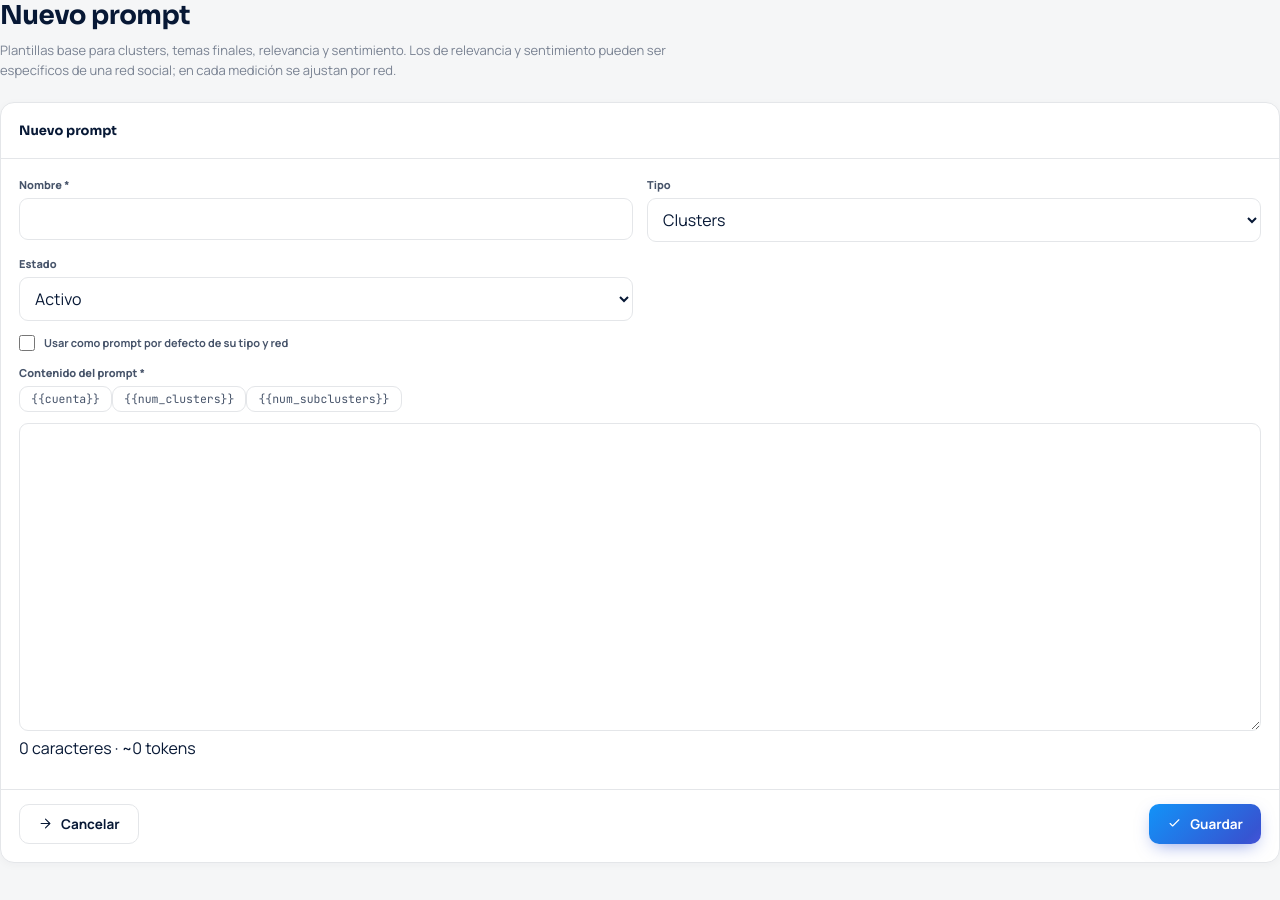
Test: Prompts con el patrón de Clientes › el formulario presenta tipo, red, estado, variables y contenido del mockup
Check: the dropdown labelled "Red social" is not shown
Step 1. Select "Relevancia" in the dropdown labelled "Tipo" → coordinates (954, 220), box [647,198,1261,242]
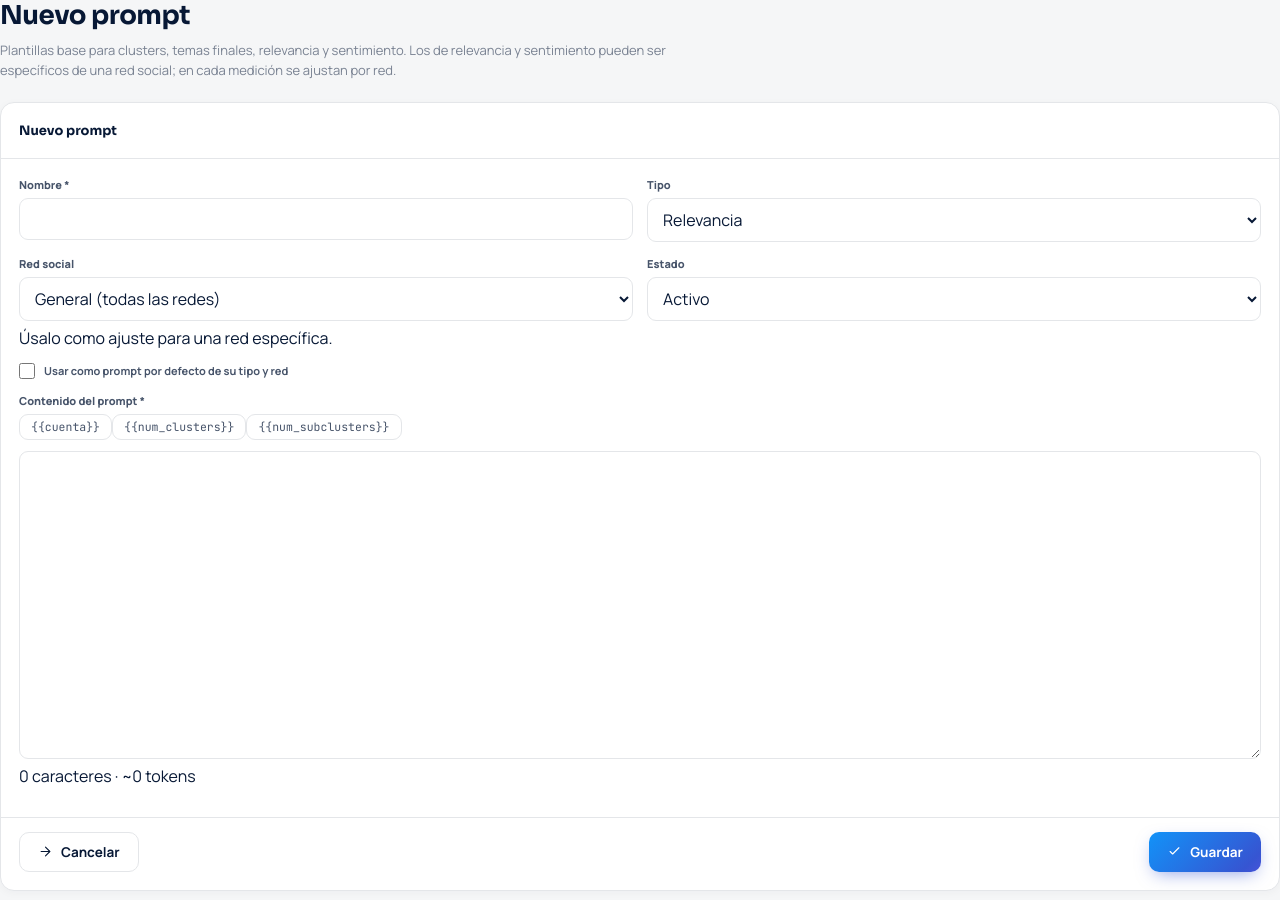
Check: the dropdown labelled "Red social" shows "General (todas las redes)", box [19,277,633,321]
Step 2. Click the button "{{cuenta}}" → coordinates (66, 427), box [19,414,112,440]
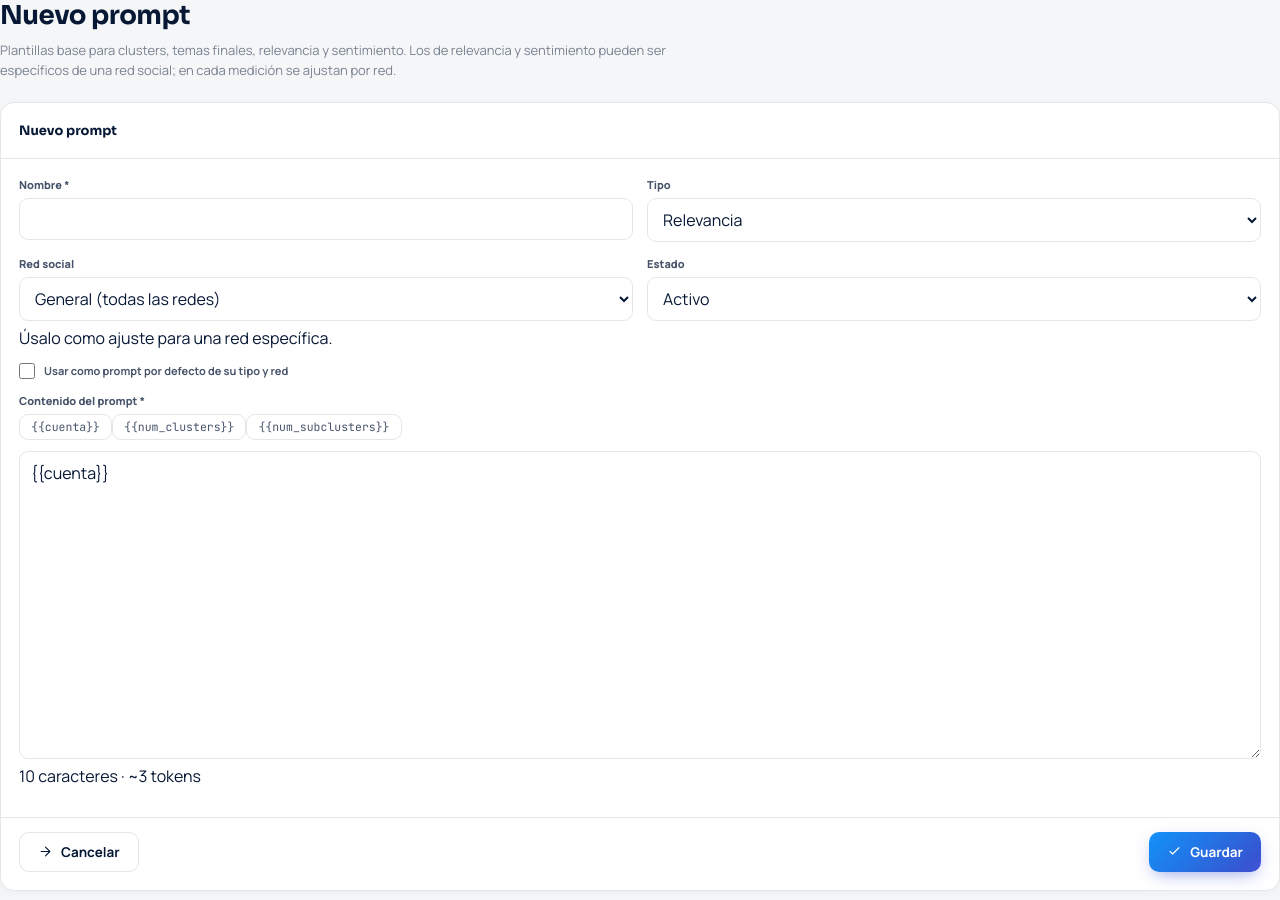
Check: the text box labelled "Contenido del prompt *" holds "{{cuenta}}", box [19,451,1261,759]
